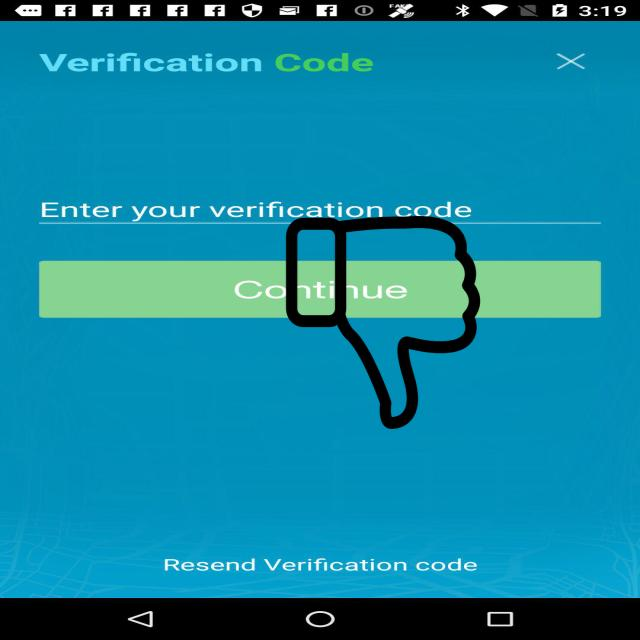obstruction: (283, 216, 483, 429)
